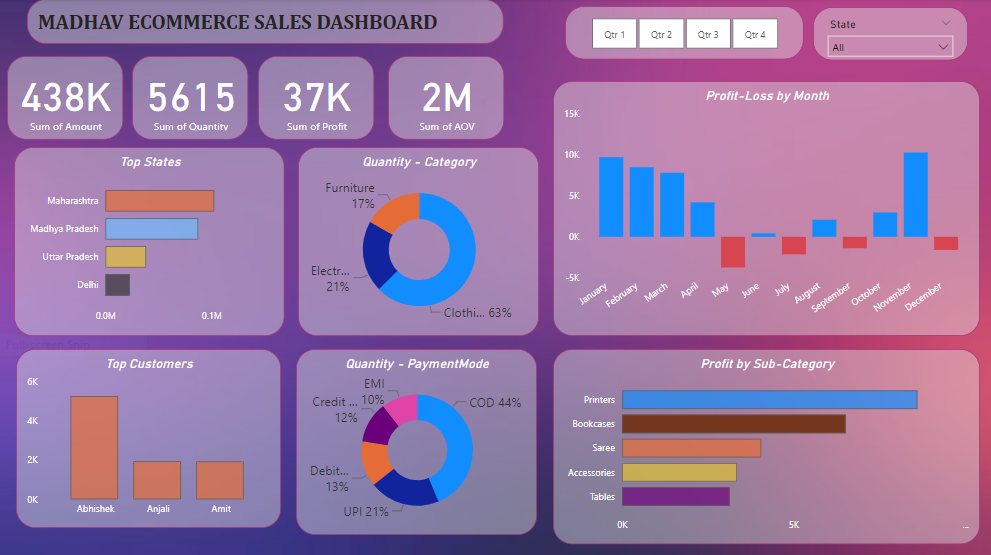

This screenshot's page, from the dashboard's own definition file:
{"tool":"powerbi","page":{"name":"Page 1","canvas":[1280,720],"ordinal":0},"visuals":[{"type":"textbox","box":[35.4,0,615.1,58.1],"z":0},{"type":"columnChart","title":"Profit-Loss by Month","fields":{"Category":["Orders.Order Date.Variation.Date Hierarchy.Month"],"Y":["Sum(Details.Profit)"]},"box":[713.5,105.8,551,329],"z":1000},{"type":"barChart","title":"Profit by Sub-Category","fields":{"Category":["Details.Sub-Category"],"Y":["Sum(Details.Profit)"]},"box":[713.5,451.6,551,251.6],"z":2000},{"type":"donutChart","title":"Quantity - Category","fields":{"Category":["Details.Category"],"Y":["Sum(Details.Quantity)"]},"box":[384.5,191,311,243.9],"z":3000},{"type":"donutChart","title":" Quantity - PaymentMode","fields":{"Y":["Sum(Details.Quantity)"],"Category":["Details.PaymentMode"]},"box":[381.9,451.6,311,240],"z":4000},{"type":"card","fields":{"Values":["Sum(Details.Amount)"]},"box":[8.5,73.7,150.2,107.7],"z":5000},{"type":"card","fields":{"Values":["Sum(Details.Quantity)"]},"box":[170.1,73.7,150.2,107.7],"z":6000},{"type":"card","fields":{"Values":["Sum(Details.Profit)"]},"box":[333.1,73.7,150.2,107.7],"z":7000},{"type":"card","fields":{"Values":["Sum(Details.AOV)"]},"box":[500.3,73.7,150.2,107.7],"z":8000},{"type":"barChart","title":"Top States","fields":{"Category":["Orders.State"],"Y":["Sum(Details.Amount)"]},"box":[18.5,191.5,349.4,243.6],"z":9000},{"type":"columnChart","title":"Top Customers","fields":{"Category":["Orders.CustomerName"],"Y":["Sum(Details.Amount)"]},"box":[21.3,452.1,341.6,231],"z":10000},{"type":"slicer","fields":{"Values":["Orders.Order Date.Variation.Date Hierarchy.Quarter"]},"box":[728.5,8.5,307.6,69.4],"z":11000},{"type":"slicer","fields":{"Values":["Orders.State"]},"box":[1048.8,9.9,199.8,69.4],"z":12000}]}

Visuals, with their boxes in screenshot pixels (x1, y1, x2, y2), scaled from the page's 1280x720 canvas onto the 991x555 screenshot:
textbox: {"left": 27, "top": 0, "right": 504, "bottom": 45}
"Profit-Loss by Month" columnChart: {"left": 552, "top": 82, "right": 979, "bottom": 335}
"Profit by Sub-Category" barChart: {"left": 552, "top": 348, "right": 979, "bottom": 542}
"Quantity - Category" donutChart: {"left": 298, "top": 147, "right": 538, "bottom": 335}
" Quantity - PaymentMode" donutChart: {"left": 296, "top": 348, "right": 536, "bottom": 533}
card - Sum(Details.Amount): {"left": 7, "top": 57, "right": 123, "bottom": 140}
card - Sum(Details.Quantity): {"left": 132, "top": 57, "right": 248, "bottom": 140}
card - Sum(Details.Profit): {"left": 258, "top": 57, "right": 374, "bottom": 140}
card - Sum(Details.AOV): {"left": 387, "top": 57, "right": 504, "bottom": 140}
"Top States" barChart: {"left": 14, "top": 148, "right": 285, "bottom": 335}
"Top Customers" columnChart: {"left": 16, "top": 348, "right": 281, "bottom": 527}
slicer - Orders.Order Date.Variation.Date Hierarchy.Quarter: {"left": 564, "top": 7, "right": 802, "bottom": 60}
slicer - Orders.State: {"left": 812, "top": 8, "right": 967, "bottom": 61}
